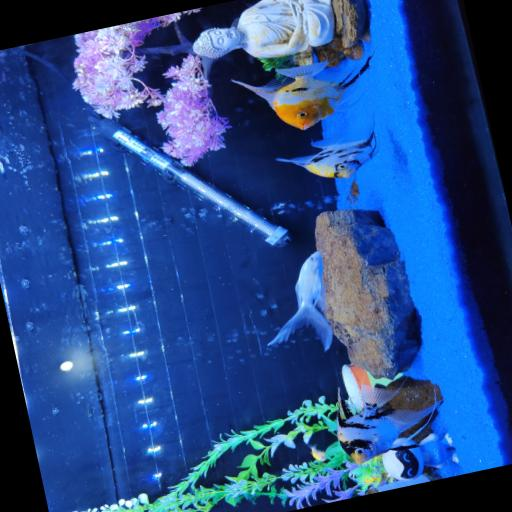Fish: (232, 55, 371, 129), (337, 384, 441, 463), (268, 251, 332, 349), (277, 130, 377, 177), (309, 444, 326, 460)
